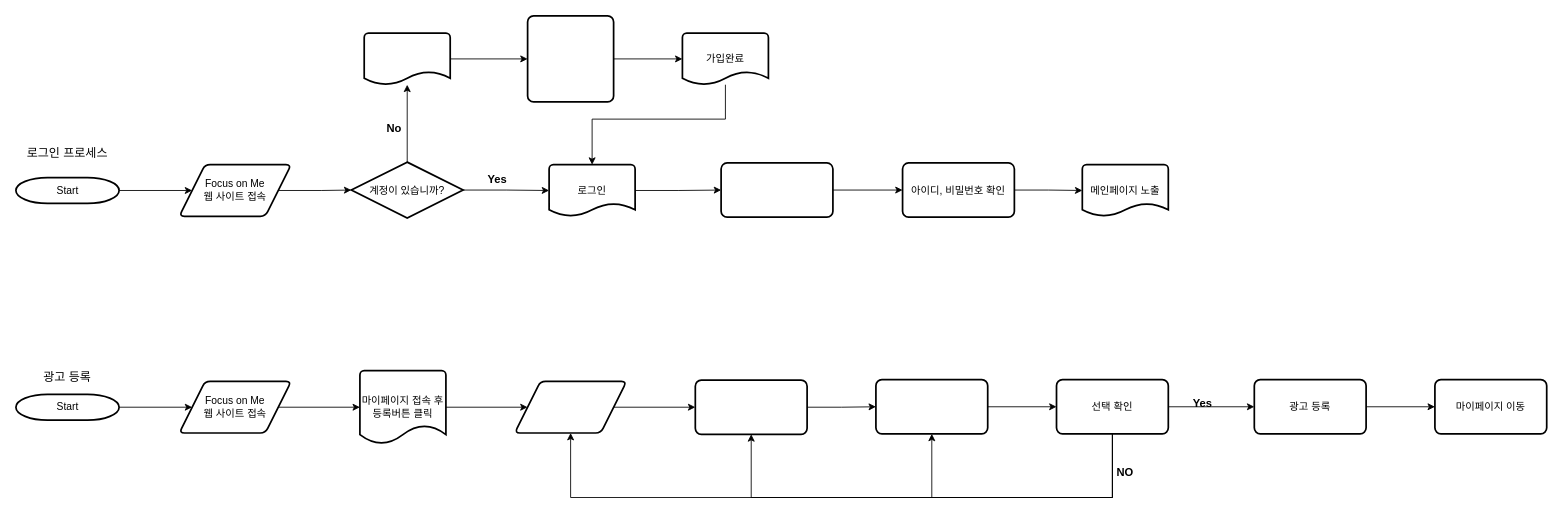
Some shapes in this 1562 by 519 pixel diagram are drawn without their labels. Each missing label, with the centre of its shape:
"기간 선택" belongs at pixel 570 406.
"다음버튼 클릭" belongs at pixel 931 406.
"아이디, 비밀번호 입력" belongs at pixel 776 190.
"정보입력 ID, Password, email, phone_number" belongs at pixel 570 58.
"타겟 선택" belongs at pixel 751 407.
"회원가입" belongs at pixel 407 58.
